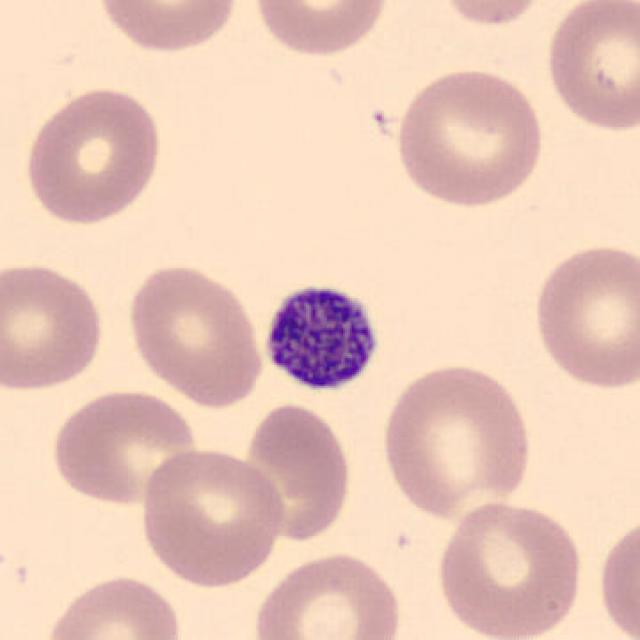Platelets: (256, 270, 389, 400)
RBC: (377, 358, 535, 522), (391, 63, 548, 210), (137, 442, 288, 589), (122, 259, 268, 409), (432, 497, 585, 640), (20, 83, 166, 227), (46, 384, 201, 510), (240, 398, 356, 545), (528, 238, 638, 391), (0, 259, 108, 395), (249, 548, 407, 640), (540, 0, 640, 136), (41, 571, 187, 640), (249, 0, 393, 60), (90, 0, 244, 55), (594, 508, 638, 640), (434, 0, 551, 30)
